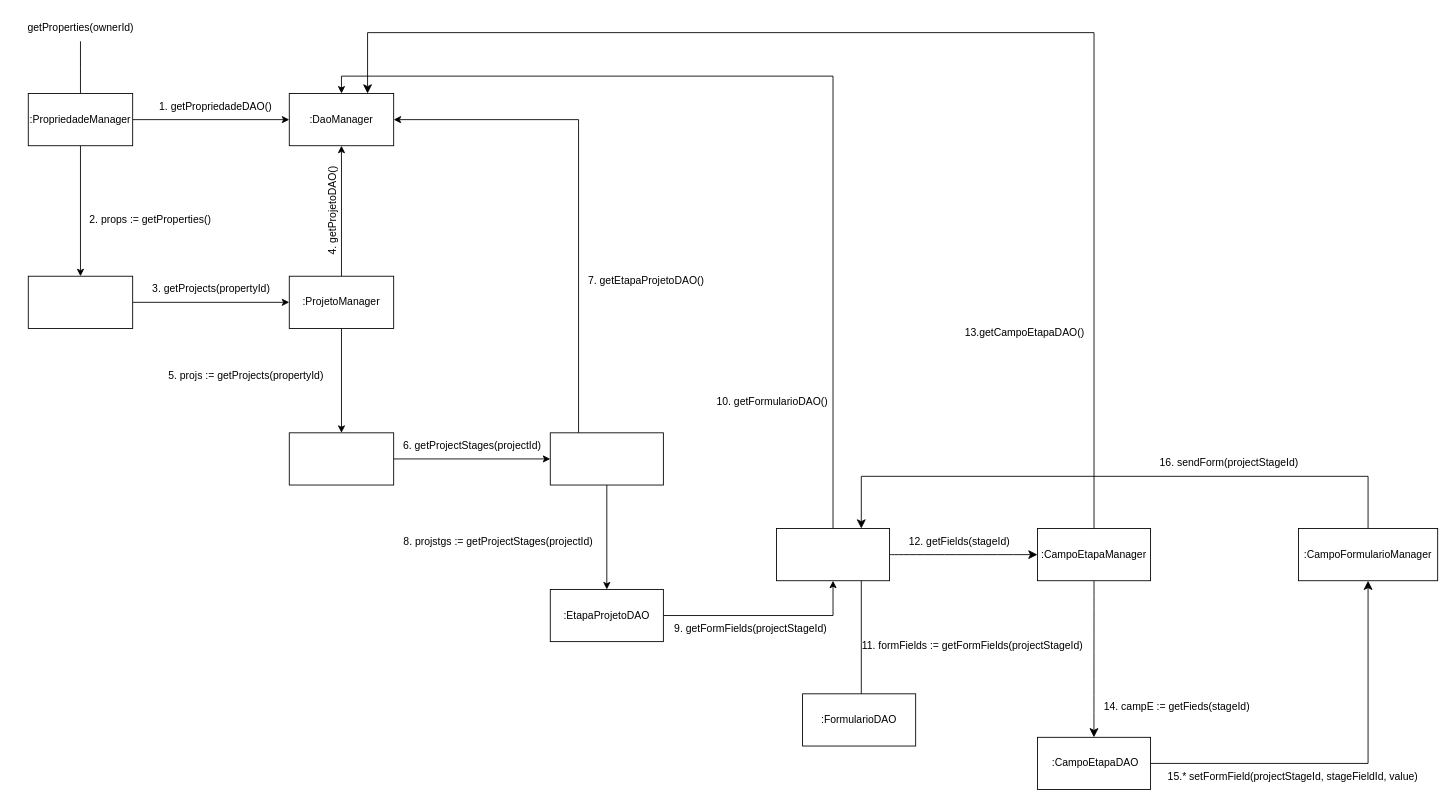
The diagram is 1453 pixels wide and 805 high, and some of its shapes have lost their labels. The shapes that lost their labels are listed below. From the top down, each one's centre as x and y in pixels, then its label:
point 80,301: :PropriedadeDAO
point 341,458: :ProjetoDAO
point 606,458: :EtapaProjetoManager
point 833,554: :FormularioManager
